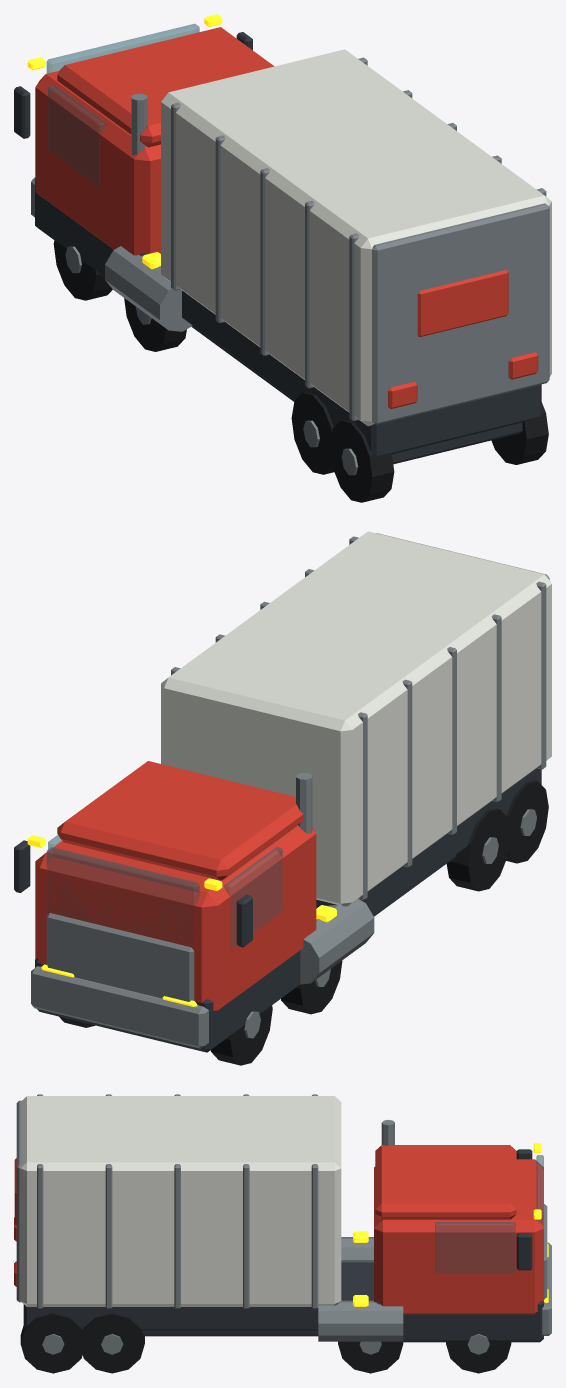
Rendered from truck.glb.
3 views of the same model, one above another, from view 1: azimuth 30°, elevation 25°; view 2: azimuth 150°, elevation 25°; view 3: azimuth 270°, elevation 25° (orthographic). The views are drawn at different scales.
Visible parts, largest first — view 1: CarBodyTrailer, TrailerDoor, CarBodyCab, CarBodyCabRoof, TrailerSkirt, TrailerSign, FuelTank, CabSideWindow, Wheel.003, CabSkirt, Wheel.002, Wheel.007 (+13 smaller); view 2: CarBodyTrailer, CarBodyCab, CarBodyCabRoof, Grille, FrontBumper, Windshield, CabSkirt, TrailerSkirt, FuelTank, Wheel.002, CabSideWindow, Wheel.003 (+10 smaller); view 3: CarBodyTrailer, CarBodyCab, CarBodyCabRoof, TrailerSkirt, CabSideWindow.001, CabSkirt, FuelTank.001, Wheel.006, Wheel.007, Chassis, Wheel.004, Wheel.005 (+15 smaller).
Part boxes in pixels (x1=…): CarBodyTrailer: x1=161, y1=49, x2=551, y2=426; TrailerDoor: x1=372, y1=203, x2=549, y2=424; CarBodyCab: x1=35, y1=70, x2=160, y2=255; CarBodyCabRoof: x1=57, y1=27, x2=274, y2=147; TrailerSkirt: x1=182, y1=290, x2=541, y2=456; TrailerSign: x1=417, y1=270, x2=508, y2=336; FuelTank: x1=105, y1=246, x2=192, y2=331; CabSideWindow: x1=48, y1=85, x2=106, y2=186; Wheel.003: x1=330, y1=420, x2=394, y2=502; CabSkirt: x1=35, y1=179, x2=146, y2=276; Wheel.002: x1=291, y1=392, x2=334, y2=474; Wheel.007: x1=491, y1=402, x2=548, y2=464; CarBodyTrailer: x1=161, y1=531, x2=551, y2=906; CarBodyCab: x1=35, y1=825, x2=316, y2=1012; CarBodyCabRoof: x1=57, y1=761, x2=303, y2=880; Grille: x1=46, y1=913, x2=194, y2=1001; FrontBumper: x1=31, y1=966, x2=208, y2=1048; Windshield: x1=46, y1=847, x2=199, y2=948; CabSkirt: x1=35, y1=950, x2=300, y2=1052; TrailerSkirt: x1=316, y1=768, x2=541, y2=914; FuelTank: x1=300, y1=899, x2=374, y2=984; Wheel.002: x1=446, y1=808, x2=510, y2=891; CabSideWindow: x1=224, y1=847, x2=282, y2=948; Wheel.003: x1=506, y1=780, x2=548, y2=863; CarBodyTrailer: x1=20, y1=1096, x2=341, y2=1306; CarBodyCab: x1=374, y1=1159, x2=543, y2=1314; CarBodyCabRoof: x1=375, y1=1145, x2=516, y2=1219; TrailerSkirt: x1=23, y1=1304, x2=318, y2=1330; CabSideWindow.001: x1=435, y1=1222, x2=515, y2=1272; CabSkirt: x1=374, y1=1300, x2=543, y2=1342; FuelTank.001: x1=318, y1=1300, x2=403, y2=1341; Wheel.006: x1=79, y1=1313, x2=144, y2=1373; Wheel.007: x1=20, y1=1313, x2=85, y2=1373; Chassis: x1=142, y1=1262, x2=373, y2=1336; Wheel.004: x1=446, y1=1340, x2=511, y2=1373; Wheel.005: x1=338, y1=1341, x2=403, y2=1373.
Bounding box in the file's own units: 3.14 × 3.56 × 8.22.
